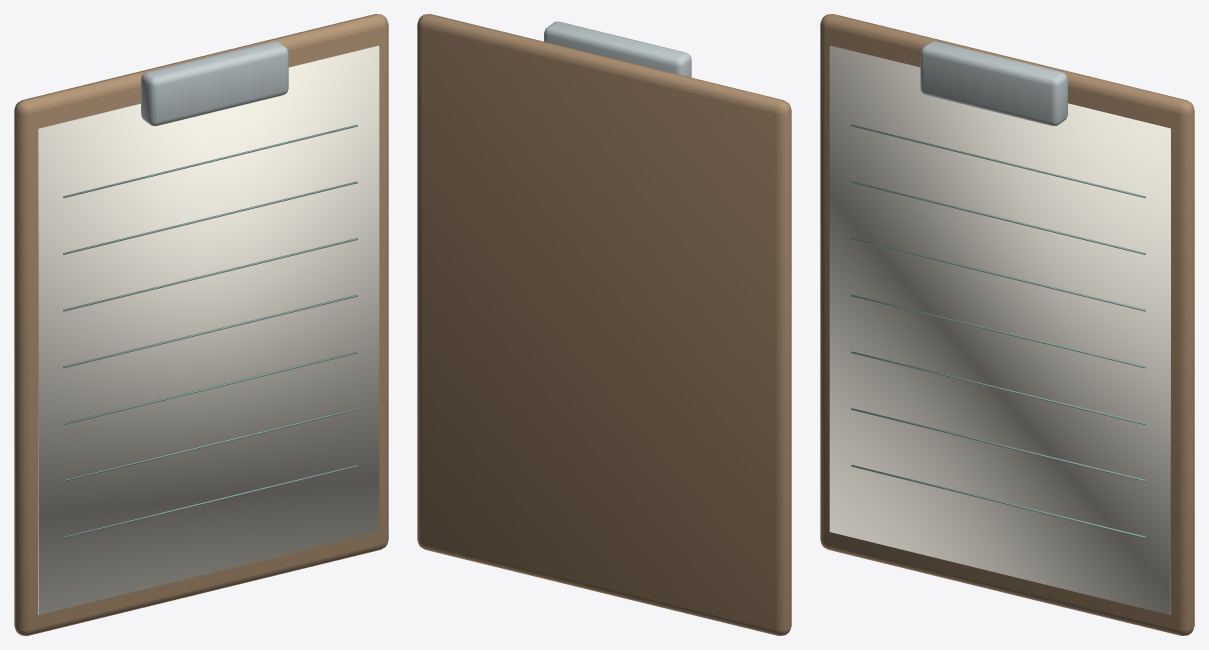
Rendered from Clipboard.fbx.
3 renders of one model, left to right at view 1: azimuth 30°, elevation 25°; view 2: azimuth 150°, elevation 25°; view 3: azimuth 330°, elevation 25°, orthographic.
Visible parts, largest first — view 1: RecordSheet, Board, Clip, PaperLine.001, PaperLine.005, PaperLine.002, PaperLine.004, PaperLine, PaperLine.003, PaperLine.006; view 2: Board, Clip; view 3: RecordSheet, Board, Clip, PaperLine.001, PaperLine.005, PaperLine.002, PaperLine.004, PaperLine, PaperLine.003, PaperLine.006.
Boxes of the visible parts, bbox=[...] form: RecordSheet: bbox=[38, 45, 379, 614]; Board: bbox=[14, 14, 388, 635]; Clip: bbox=[141, 41, 288, 126]; PaperLine.001: bbox=[63, 181, 357, 254]; PaperLine.005: bbox=[63, 408, 357, 481]; PaperLine.002: bbox=[63, 238, 357, 311]; PaperLine.004: bbox=[63, 351, 357, 424]; PaperLine: bbox=[63, 124, 357, 197]; PaperLine.003: bbox=[63, 295, 357, 367]; PaperLine.006: bbox=[63, 465, 357, 538]; Board: bbox=[417, 14, 791, 635]; Clip: bbox=[544, 21, 691, 77]; RecordSheet: bbox=[829, 45, 1170, 614]; Board: bbox=[820, 14, 1194, 635]; Clip: bbox=[920, 41, 1067, 126]; PaperLine.001: bbox=[851, 181, 1145, 254]; PaperLine.005: bbox=[851, 408, 1145, 481]; PaperLine.002: bbox=[851, 238, 1145, 311]; PaperLine.004: bbox=[851, 351, 1145, 424]; PaperLine: bbox=[851, 124, 1145, 197]; PaperLine.003: bbox=[851, 295, 1145, 367]; PaperLine.006: bbox=[851, 465, 1145, 538].
Bounding box in the file's own units: 0.24 × 0.335 × 0.0285.
